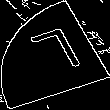L_SE: (23, 26, 87, 84)
